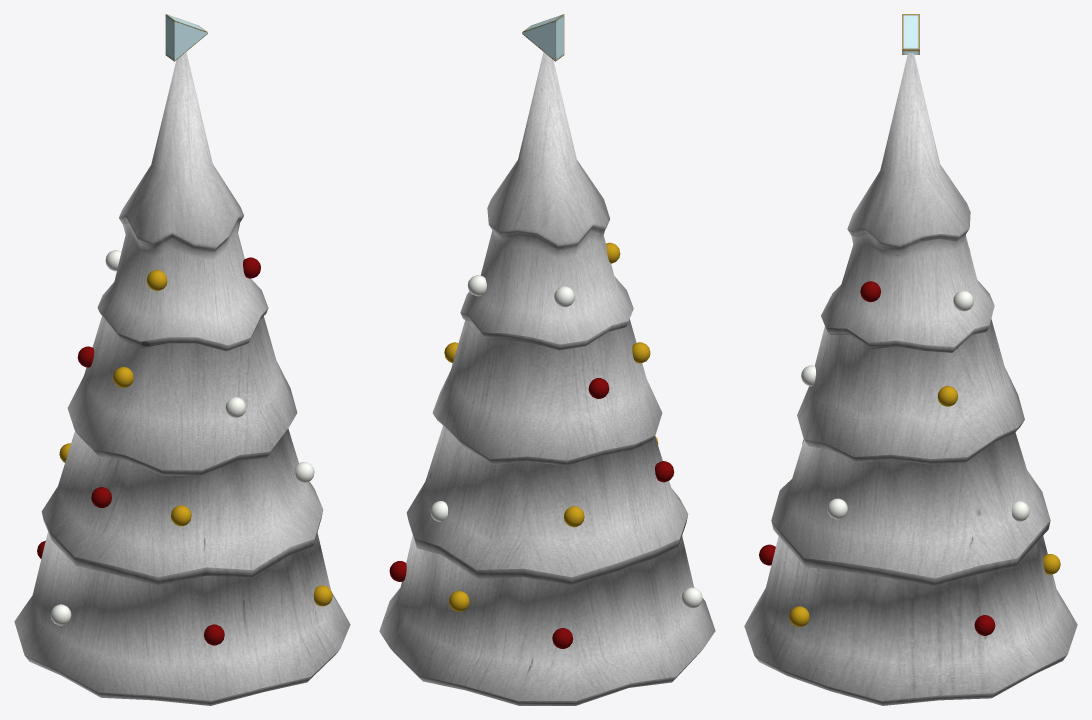
The model's file is christmastree.glb.
3 renders of one model, left to right at view 1: azimuth 30°, elevation 25°; view 2: azimuth 150°, elevation 25°; view 3: azimuth 270°, elevation 25°, orthographic.
Parts seen in each view (by area): view 1: Cone, Cube; view 2: Cone, Cube; view 3: Cone, Cube.
Boxes of the visible parts, bbox=[...] form: Cone: bbox=[14, 52, 350, 705]; Cube: bbox=[165, 14, 207, 61]; Cone: bbox=[379, 52, 715, 705]; Cube: bbox=[522, 14, 564, 61]; Cone: bbox=[744, 53, 1077, 705]; Cube: bbox=[902, 14, 919, 54].
Bounding box in the file's own units: 2.08 × 4.35 × 2.11.
5 materials, 5 textured.
